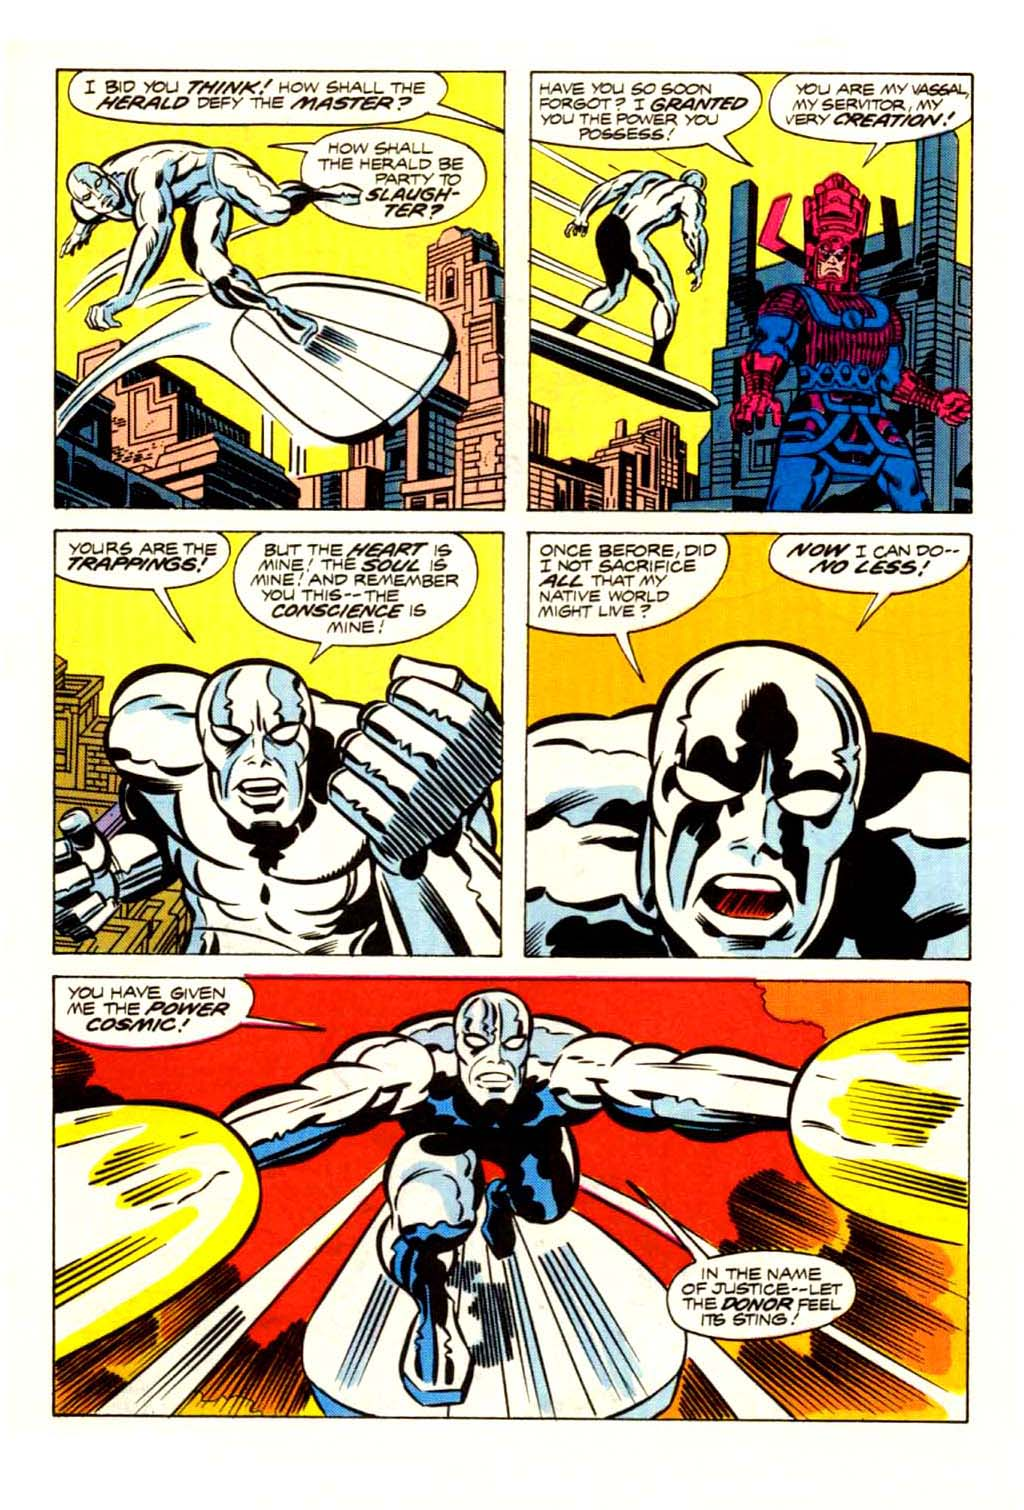Baloon: (234, 529, 478, 645), (67, 66, 457, 127), (525, 534, 729, 644), (527, 78, 760, 162), (301, 125, 490, 227), (771, 66, 974, 150), (671, 1251, 855, 1341), (53, 976, 255, 1052), (774, 534, 969, 606), (55, 527, 229, 606)
Vignetta: (53, 978, 971, 1420), (527, 71, 974, 516), (62, 71, 507, 506), (527, 534, 974, 959), (57, 529, 499, 954)
